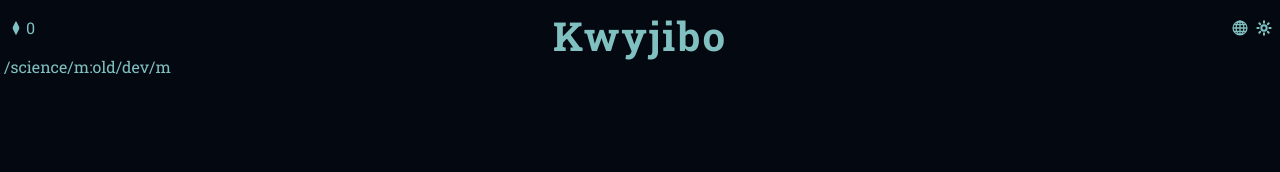
Scenario: Header › opens the mosaic by replacing existing mosaic path segments
Click the button titled "Show your mosaic".
click(22, 28)  # box top-left (8, 20), bottom-right (35, 36)
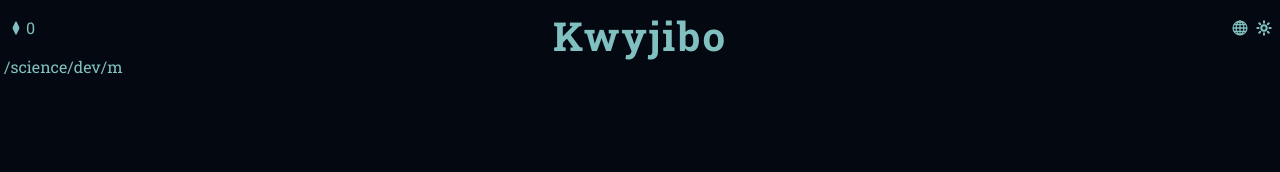
Now the text with test id "current-path" reads "/science/dev/m", box top-left (4, 56), bottom-right (123, 77)
